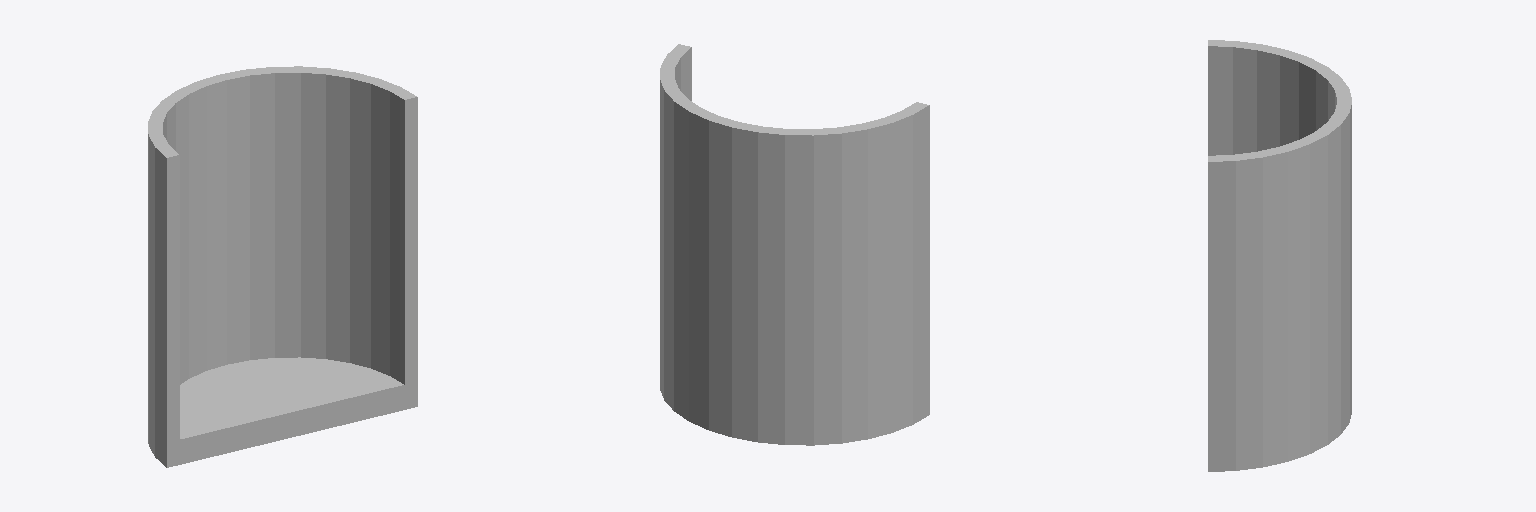
File: halfglas.obj
3 renders of one model, left to right at view 1: azimuth 30°, elevation 25°; view 2: azimuth 150°, elevation 25°; view 3: azimuth 270°, elevation 25°, orthographic.
Visible parts, largest first — view 1: Cylinder.001; view 2: Cylinder.001; view 3: Cylinder.001.
Part boxes in pixels (left/top/right/bottom): Cylinder.001: left=148, top=66, right=417, bottom=467; Cylinder.001: left=660, top=44, right=929, bottom=445; Cylinder.001: left=1208, top=40, right=1351, bottom=471.
Bounding box in the file's own units: 2 × 2.36 × 1.